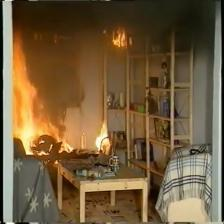fire: (14, 38, 31, 142), (32, 106, 51, 148), (113, 28, 133, 47)
smoke: (38, 5, 108, 105)
